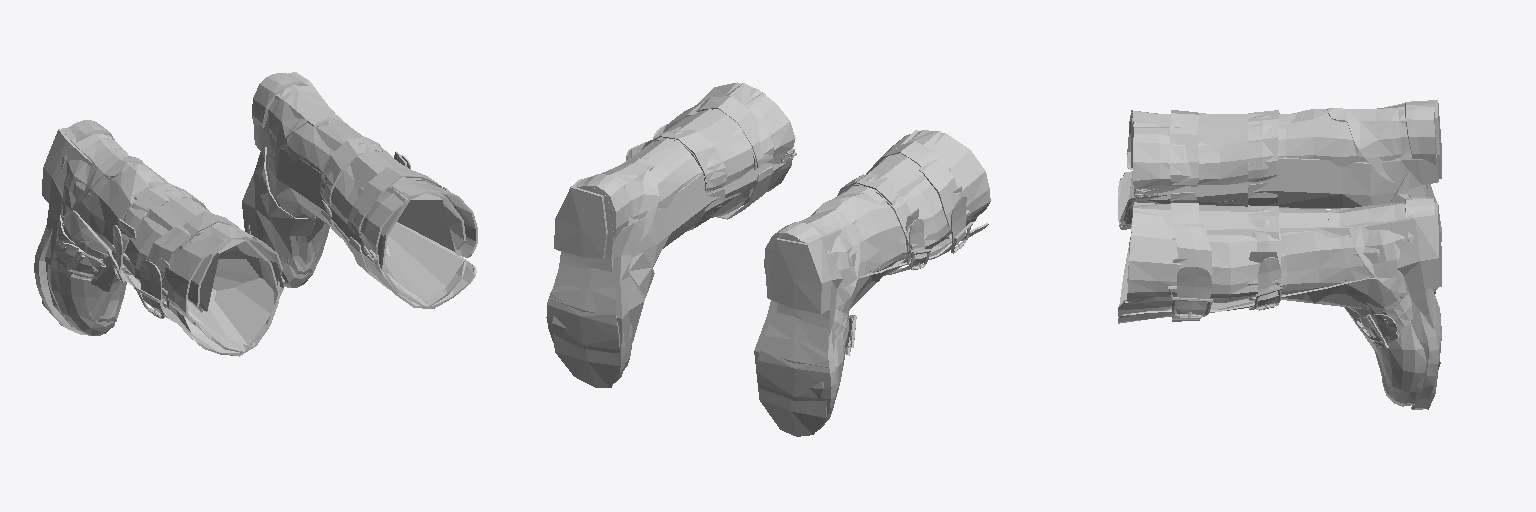
File: accs_003_u.obj
3 renders of one model, left to right at view 1: azimuth 30°, elevation 25°; view 2: azimuth 150°, elevation 25°; view 3: azimuth 270°, elevation 25°, orthographic.
Visible parts, largest first — view 1: accs_003_u_med_1, accs_003_u_high_1, accs_003_u_low_1, accs_003_u_high_2; view 2: accs_003_u_med_1, accs_003_u_high_2, accs_003_u_high_1, accs_003_u_low_1; view 3: accs_003_u_med_1, accs_003_u_high_1, accs_003_u_high_2, accs_003_u_low_1.
Part boxes in pixels (left/top/right/bottom): accs_003_u_med_1: left=41, top=74, right=466, bottom=352; accs_003_u_high_1: left=39, top=82, right=477, bottom=356; accs_003_u_low_1: left=42, top=72, right=463, bottom=345; accs_003_u_high_2: left=34, top=73, right=456, bottom=327; accs_003_u_med_1: left=550, top=83, right=976, bottom=436; accs_003_u_high_2: left=546, top=83, right=990, bottom=431; accs_003_u_high_1: left=613, top=82, right=988, bottom=399; accs_003_u_low_1: left=552, top=92, right=918, bottom=400; accs_003_u_med_1: left=1118, top=102, right=1440, bottom=409; accs_003_u_high_1: left=1118, top=103, right=1428, bottom=409; accs_003_u_high_2: left=1127, top=102, right=1441, bottom=409; accs_003_u_low_1: left=1118, top=100, right=1441, bottom=376.
Size of the model in its own units: 0.4351 by 0.2773 by 0.394.